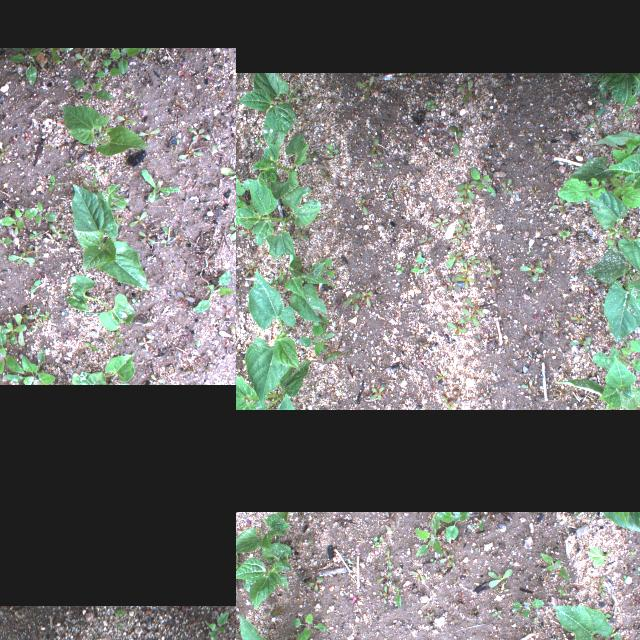crop: (579, 191, 640, 343), (68, 183, 148, 289), (244, 267, 300, 403), (548, 128, 640, 210), (236, 171, 320, 260), (554, 337, 640, 409), (57, 273, 135, 333), (58, 102, 144, 156), (252, 125, 312, 199), (276, 251, 334, 327), (236, 541, 290, 612), (236, 360, 311, 410), (237, 76, 295, 132), (554, 603, 636, 640), (68, 353, 138, 385), (236, 512, 292, 552), (595, 73, 640, 119), (236, 614, 283, 640), (298, 327, 336, 357), (586, 546, 612, 568)
weed: (190, 268, 236, 314), (4, 306, 51, 346), (88, 49, 148, 79), (6, 352, 56, 384), (0, 303, 20, 376), (138, 169, 180, 203), (66, 74, 116, 102), (412, 512, 442, 555), (8, 51, 42, 87), (0, 203, 37, 234), (435, 512, 468, 543), (468, 165, 498, 197), (538, 554, 572, 580), (293, 612, 327, 638), (458, 300, 486, 328), (35, 200, 61, 228), (411, 248, 434, 278), (508, 599, 542, 619), (582, 103, 606, 131), (103, 185, 127, 212), (205, 611, 227, 640), (440, 247, 466, 271), (481, 256, 503, 284), (564, 512, 596, 531), (453, 180, 477, 204), (453, 77, 472, 106), (520, 260, 544, 282), (486, 570, 514, 588), (5, 250, 40, 264), (354, 76, 378, 95), (447, 123, 461, 155), (156, 223, 176, 245), (138, 129, 160, 149), (438, 276, 460, 296), (81, 163, 99, 187), (496, 176, 516, 197), (452, 213, 472, 234), (221, 318, 236, 345), (217, 166, 236, 187), (565, 335, 593, 349), (424, 214, 448, 230), (274, 629, 308, 640), (224, 217, 236, 247), (50, 48, 70, 66), (408, 331, 428, 349), (444, 318, 466, 334), (323, 346, 342, 364), (47, 223, 67, 240), (74, 49, 94, 66), (174, 148, 202, 160), (366, 138, 384, 156), (352, 196, 370, 214), (340, 293, 358, 311), (174, 292, 196, 306), (188, 128, 210, 142), (548, 202, 570, 216), (392, 582, 402, 612), (28, 278, 44, 296), (136, 230, 154, 246), (115, 110, 135, 124), (521, 332, 541, 346), (42, 173, 58, 190), (316, 165, 332, 182), (558, 224, 572, 243), (452, 207, 474, 219), (128, 212, 144, 228), (368, 386, 384, 402), (439, 550, 455, 566), (135, 338, 153, 352), (64, 156, 78, 174), (383, 187, 397, 205), (414, 235, 432, 249), (467, 252, 481, 270), (374, 570, 392, 584), (382, 546, 393, 568), (320, 144, 340, 156), (567, 313, 587, 325), (306, 578, 326, 590), (408, 569, 427, 581), (422, 94, 436, 110), (484, 280, 498, 296), (521, 378, 535, 394), (456, 276, 472, 290), (448, 392, 464, 406), (79, 342, 99, 352), (476, 512, 486, 532), (378, 584, 388, 604), (441, 396, 455, 410), (109, 333, 125, 345), (472, 334, 483, 350), (392, 262, 406, 274), (268, 606, 282, 618), (148, 372, 164, 382), (361, 292, 372, 306), (372, 534, 383, 548), (460, 264, 472, 276), (434, 372, 448, 382), (556, 585, 570, 595), (422, 610, 436, 620), (383, 512, 394, 524), (0, 237, 13, 247), (473, 540, 482, 554), (26, 230, 38, 240), (452, 234, 461, 246), (534, 142, 542, 154), (598, 576, 606, 588), (600, 610, 612, 618), (490, 610, 502, 618), (114, 608, 124, 616), (596, 588, 606, 596), (628, 550, 638, 558), (621, 573, 629, 581), (530, 189, 540, 195), (636, 567, 640, 579), (429, 558, 437, 564), (496, 589, 508, 593), (307, 538, 313, 546), (384, 525, 391, 531), (118, 621, 122, 629), (470, 525, 474, 531), (236, 627, 238, 635)
